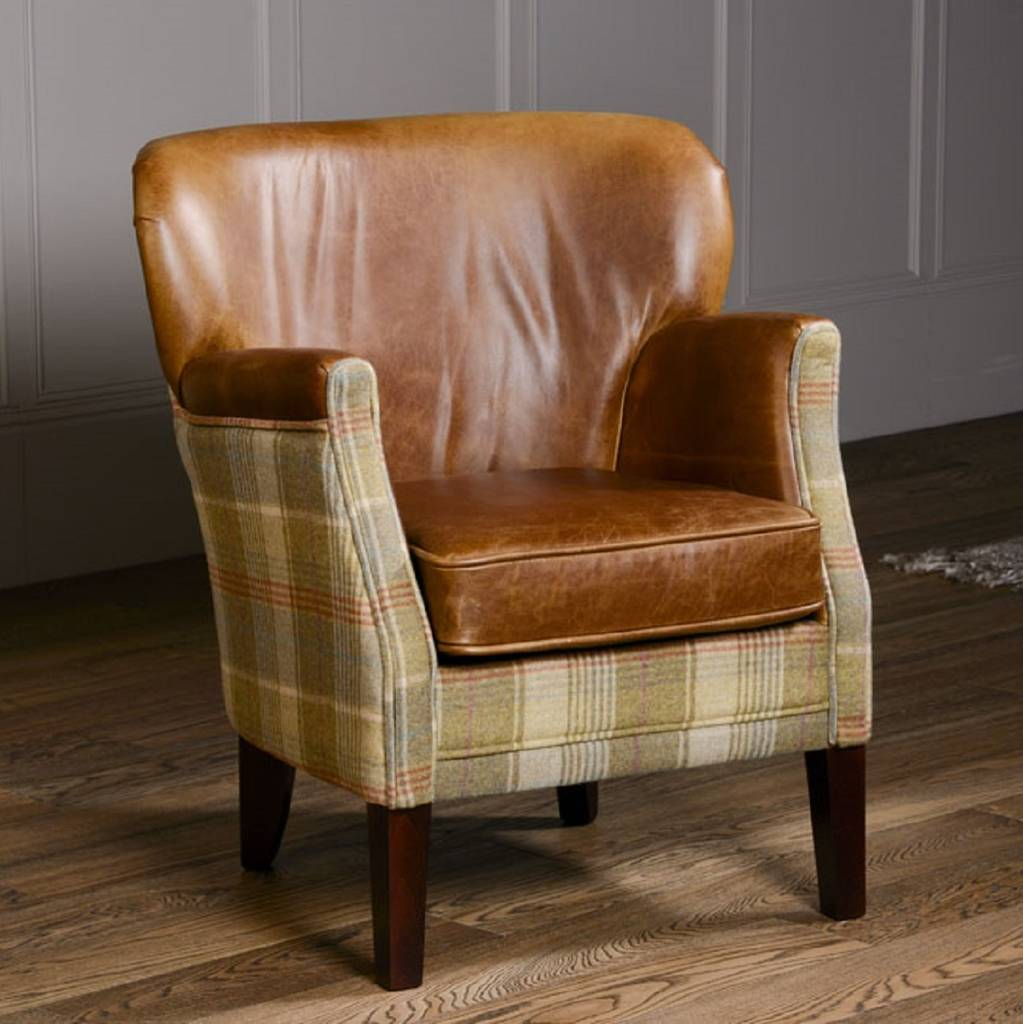chairs: (113, 100, 886, 993)
